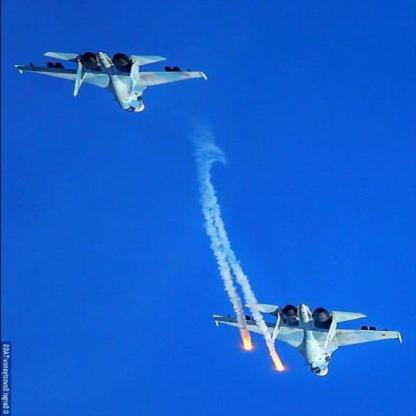MIL_TBM: (264, 342, 287, 372), (239, 323, 256, 352)
